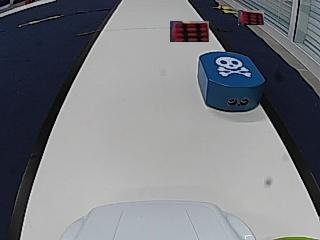danger: (216, 55, 249, 77)
